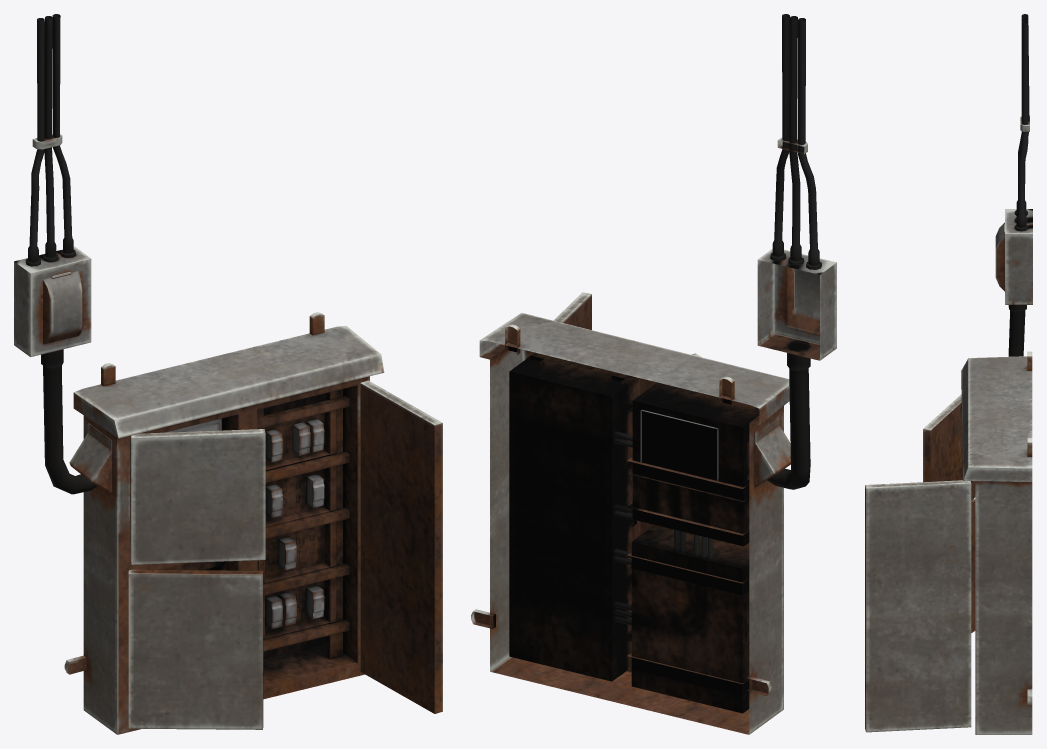
The model's file is ElectricBox_low.fbx.
3 renders of one model, left to right at view 1: azimuth 30°, elevation 25°; view 2: azimuth 150°, elevation 25°; view 3: azimuth 270°, elevation 25°, orthographic. The views are drawn at different scales.
Visible parts, largest first — view 1: ElectricBox_low; view 2: ElectricBox_low; view 3: ElectricBox_low.
Boxes of the visible parts, x1=… form: ElectricBox_low: x1=14, y1=14, x2=442, y2=734; ElectricBox_low: x1=471, y1=14, x2=836, y2=734; ElectricBox_low: x1=865, y1=14, x2=1032, y2=734.
Bounding box in the file's own units: 108 × 213 × 54.47.
